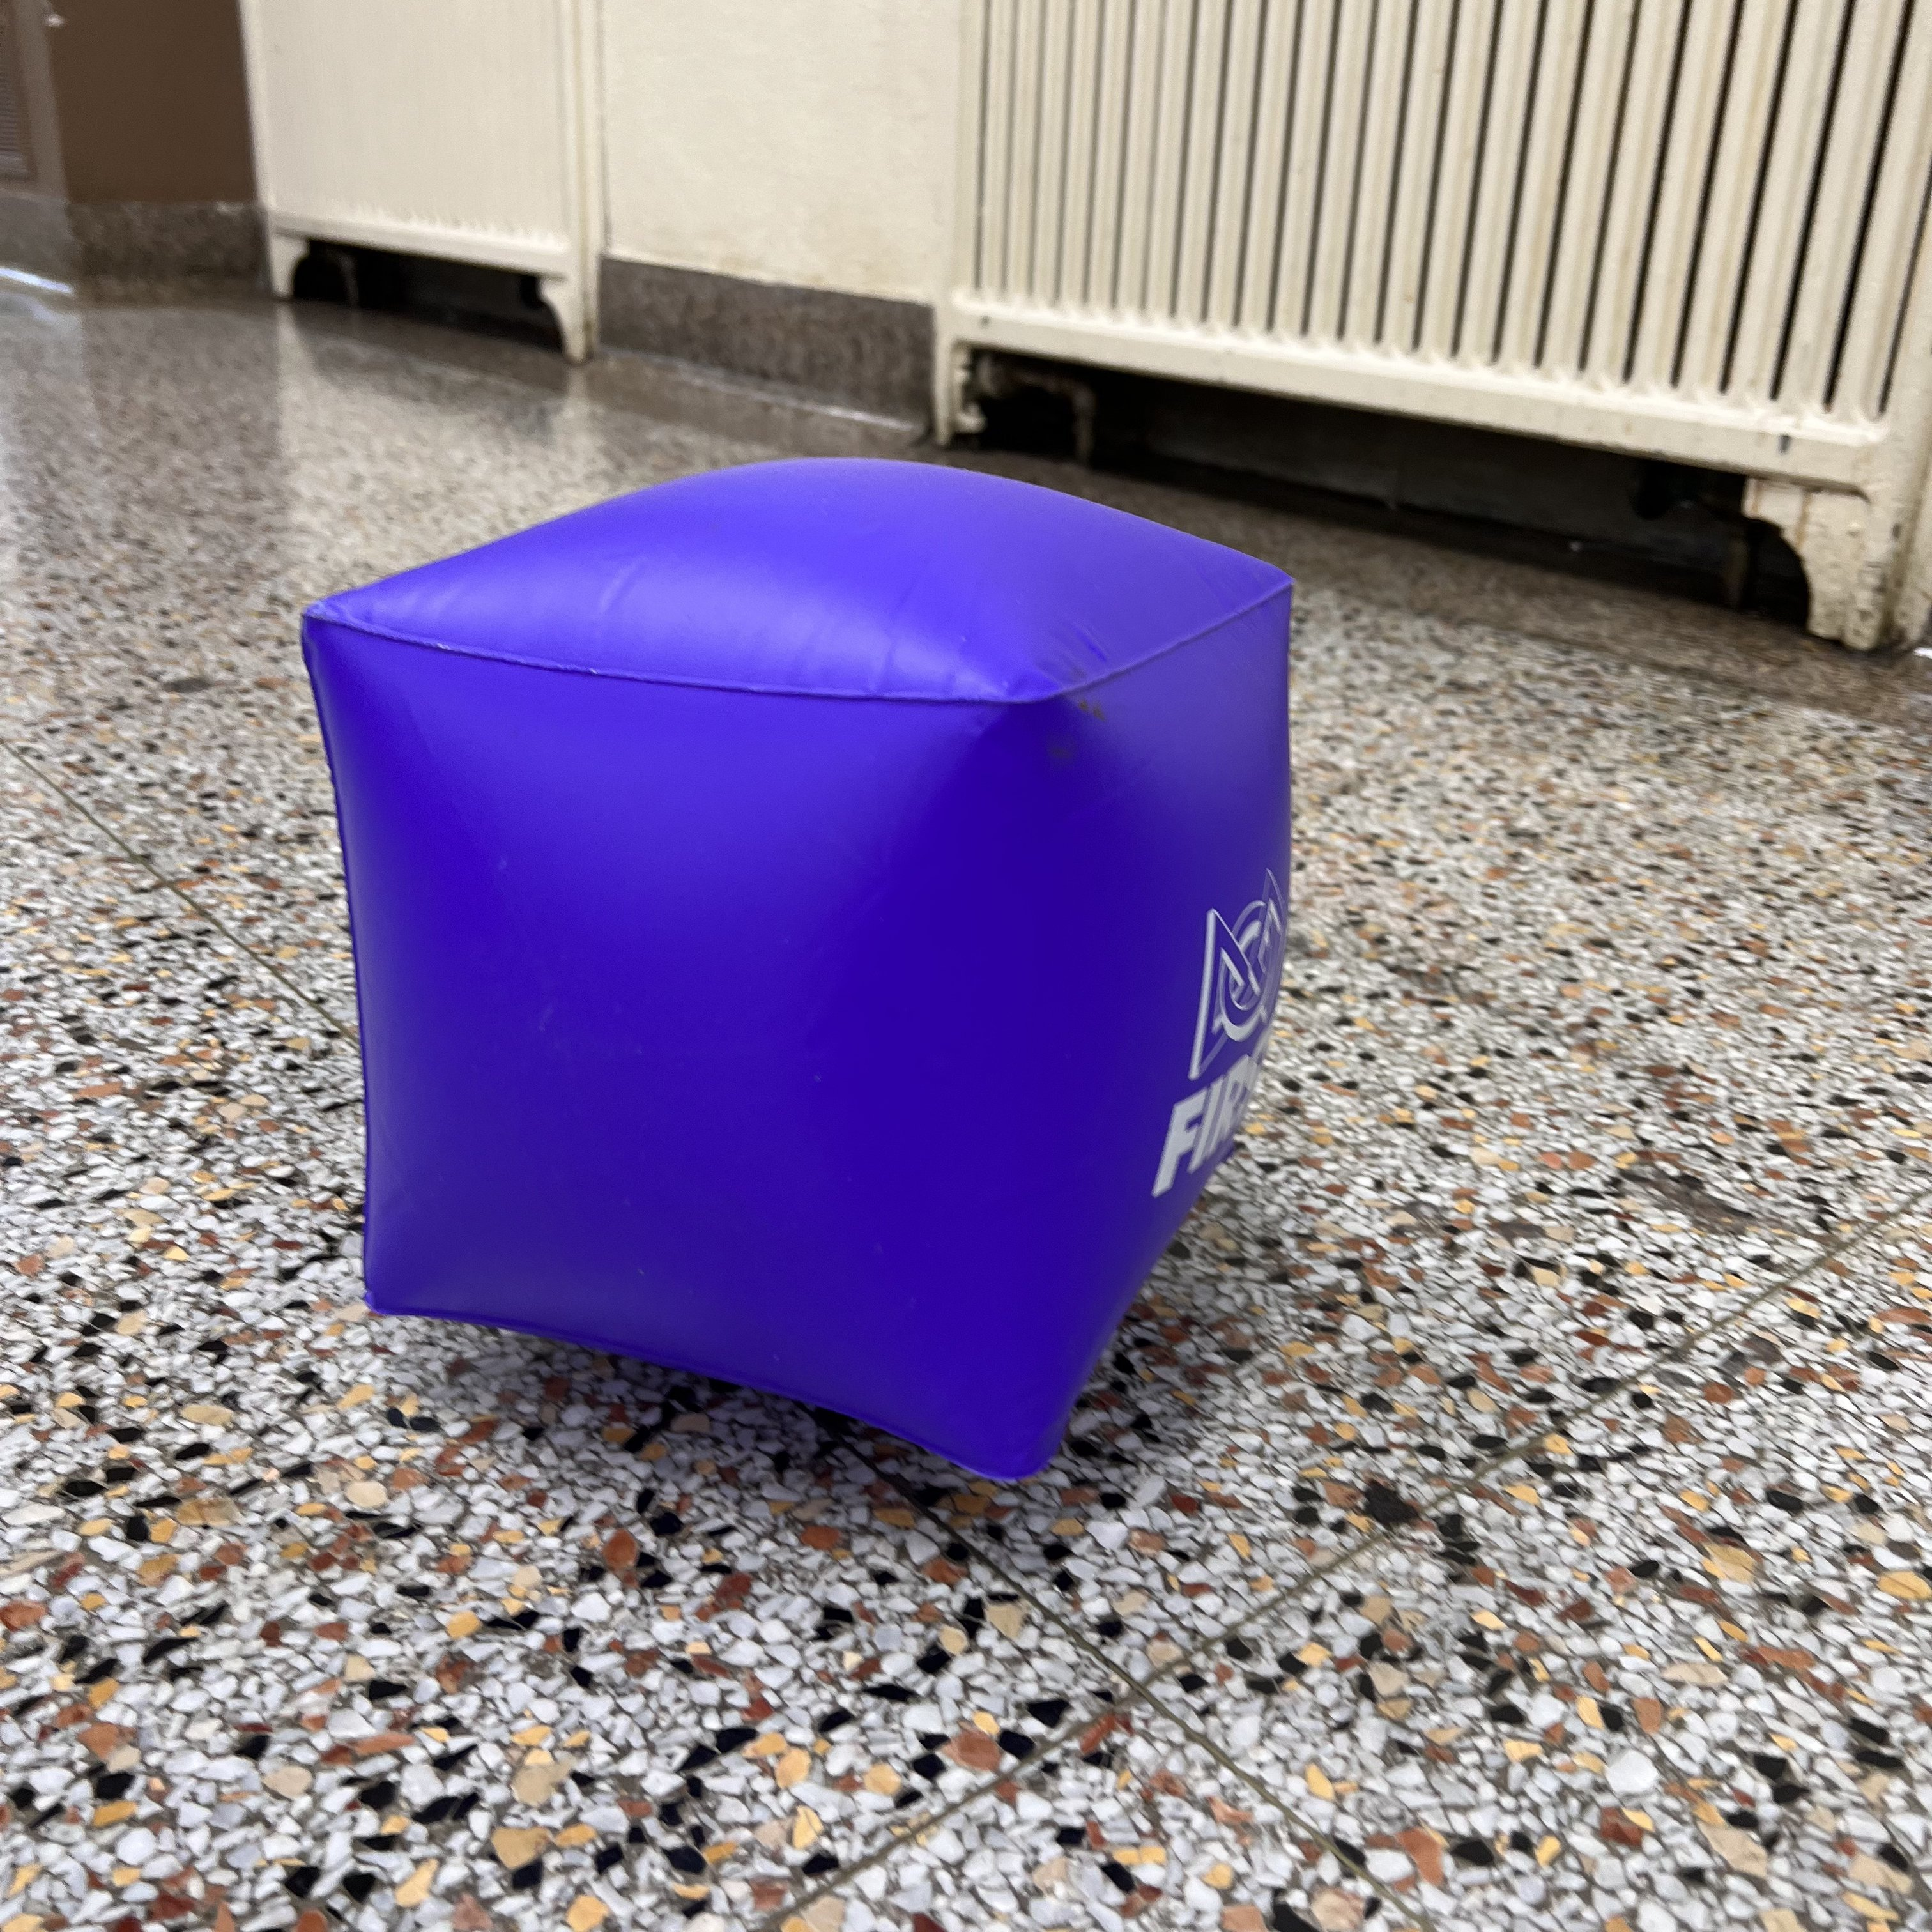cube: (299, 458, 1292, 1474)
